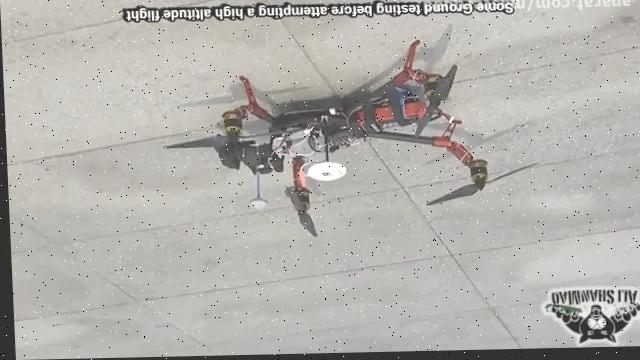drone: (151, 35, 543, 245)
